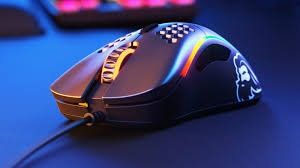mouse: (41, 17, 263, 136)
